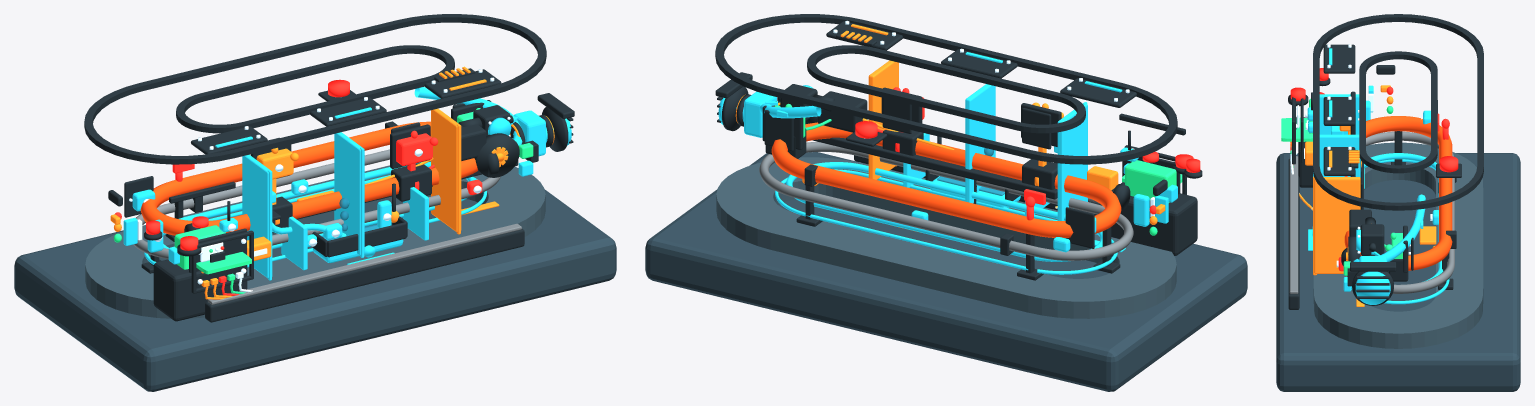
File: utility-tunnel-annular-v07.glb
3 views of the same model, side by side, from view 1: azimuth 30°, elevation 25°; view 2: azimuth 150°, elevation 25°; view 3: azimuth 270°, elevation 25° (orthographic). The views are drawn at different scales.
Parts seen in each view (by area): view 1: MESH_BASE_01, MESH_RING_FLOOR, MESH_RING_OUTER_RAIL, MESH_PIPE_G01, MESH_CABLE_DUCT_01, MESH_RING_INNER_RAIL, MESH_CTRL_DRY_BAY, MESH_PIPE_UTILITY_01, GEO_ZONE_C_RIB, GEO_ZONE_B_RIB, GEO_CABLE_DUCT_COVER, GEO_ZONE_A_RIB (+22 smaller); view 2: MESH_BASE_01, MESH_RING_FLOOR, MESH_PIPE_G01, MESH_RING_OUTER_RAIL, MESH_PIPE_UTILITY_01, MESH_RING_INNER_RAIL, MESH_PIPE_UTILITY_02, MESH_CTRL_DRY_BAY, MESH_GAS_SENSOR_RAIL_C01, MESH_LED_RING, GEO_ZONE_A_RIB, GEO_ZONE_B_RIB (+17 smaller); view 3: MESH_BASE_01, MESH_RING_FLOOR, MESH_RING_OUTER_RAIL, GEO_ZONE_C_RIB, MESH_PIPE_G01, MESH_RING_INNER_RAIL, MESH_PIPE_UTILITY_01, GEO_CABLE_DUCT_COVER, MESH_ROOF_HATCH_A, MESH_ROOF_HATCH_B, GEO_ZONE_B_RIB, MESH_ROOF_HATCH_C (+19 smaller).
Boxes of the visible parts, left/top/right/bottom form: MESH_BASE_01: left=14, top=189, right=616, bottom=391; MESH_RING_FLOOR: left=85, top=161, right=545, bottom=318; MESH_RING_OUTER_RAIL: left=84, top=14, right=546, bottom=164; MESH_PIPE_G01: left=140, top=121, right=477, bottom=235; MESH_CABLE_DUCT_01: left=205, top=229, right=524, bottom=322; MESH_RING_INNER_RAIL: left=176, top=45, right=454, bottom=133; MESH_CTRL_DRY_BAY: left=153, top=259, right=247, bottom=321; MESH_PIPE_UTILITY_01: left=133, top=149, right=500, bottom=258; GEO_ZONE_C_RIB: left=431, top=108, right=461, bottom=232; GEO_ZONE_B_RIB: left=334, top=132, right=364, bottom=255; GEO_CABLE_DUCT_COVER: left=207, top=223, right=521, bottom=304; GEO_ZONE_A_RIB: left=242, top=154, right=272, bottom=278; MESH_BASE_01: left=645, top=152, right=1247, bottom=391; MESH_RING_FLOOR: left=716, top=157, right=1176, bottom=318; MESH_PIPE_G01: left=771, top=122, right=1121, bottom=237; MESH_RING_OUTER_RAIL: left=715, top=14, right=1177, bottom=164; MESH_PIPE_UTILITY_01: left=759, top=141, right=1133, bottom=260; MESH_RING_INNER_RAIL: left=807, top=45, right=1085, bottom=133; MESH_PIPE_UTILITY_02: left=786, top=162, right=1102, bottom=261; MESH_CTRL_DRY_BAY: left=1111, top=182, right=1197, bottom=255; MESH_GAS_SENSOR_RAIL_C01: left=813, top=137, right=1057, bottom=199; MESH_LED_RING: left=775, top=169, right=1117, bottom=274; GEO_ZONE_A_RIB: left=1057, top=103, right=1087, bottom=220; GEO_ZONE_B_RIB: left=965, top=84, right=995, bottom=203; MESH_BASE_01: left=1276, top=153, right=1520, bottom=391; MESH_RING_FLOOR: left=1313, top=142, right=1483, bottom=348; MESH_RING_OUTER_RAIL: left=1313, top=14, right=1483, bottom=210; GEO_ZONE_C_RIB: left=1314, top=177, right=1360, bottom=273; MESH_PIPE_G01: left=1344, top=116, right=1452, bottom=270; MESH_RING_INNER_RAIL: left=1359, top=51, right=1437, bottom=173; MESH_PIPE_UTILITY_01: left=1346, top=131, right=1454, bottom=293; GEO_CABLE_DUCT_COVER: left=1289, top=156, right=1298, bottom=293; MESH_ROOF_HATCH_A: left=1323, top=44, right=1355, bottom=73; MESH_ROOF_HATCH_B: left=1323, top=97, right=1355, bottom=125; GEO_ZONE_B_RIB: left=1319, top=134, right=1360, bottom=177; MESH_ROOF_HATCH_C: left=1323, top=147, right=1355, bottom=175.
Size of what is drawn, in the model's own units: 1 by 0.42 by 0.5.
